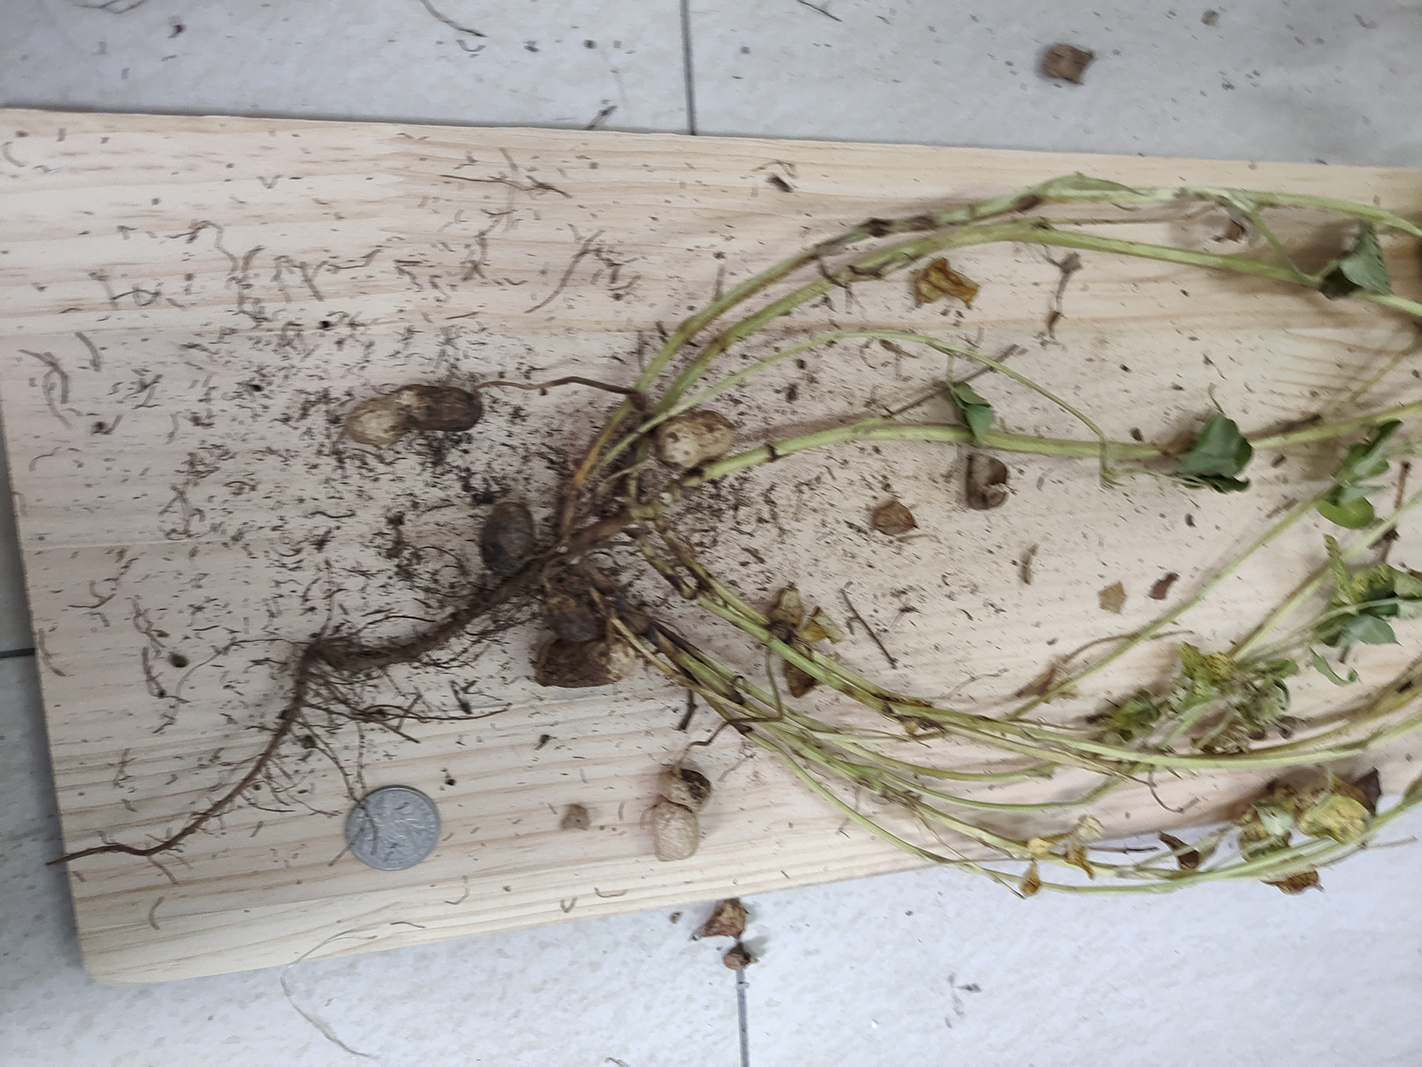h: (648, 769, 713, 861), (654, 412, 733, 467)
l: (345, 386, 483, 446), (480, 503, 536, 577), (538, 593, 600, 641)
